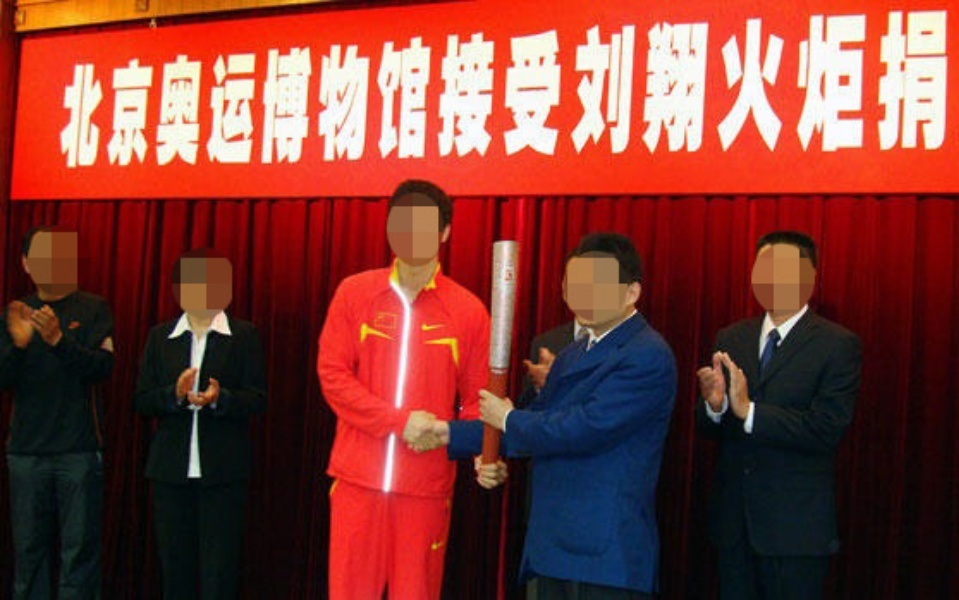text: (65, 7, 80, 176), (81, 7, 96, 176), (97, 7, 112, 176), (113, 7, 128, 176), (129, 7, 144, 176), (145, 7, 160, 176), (161, 7, 176, 176), (177, 7, 192, 176), (193, 7, 208, 176), (209, 7, 224, 176), (225, 7, 240, 176), (241, 7, 256, 176), (257, 7, 272, 176), (273, 7, 288, 176), (289, 7, 304, 176), (305, 7, 320, 176), (321, 7, 336, 176), (337, 7, 352, 176), (353, 7, 368, 176), (369, 7, 384, 176), (385, 7, 400, 176), (401, 7, 416, 176), (417, 7, 432, 176), (433, 7, 448, 176), (449, 7, 464, 176), (465, 7, 480, 176), (481, 7, 496, 176), (497, 7, 512, 176), (513, 7, 528, 176), (529, 7, 544, 176), (545, 7, 560, 176), (561, 7, 576, 176), (577, 7, 592, 176), (593, 7, 608, 176), (609, 7, 624, 176), (625, 7, 640, 176), (641, 7, 656, 176), (657, 7, 672, 176), (673, 7, 688, 176), (689, 7, 704, 176), (705, 7, 720, 176), (721, 7, 736, 176), (737, 7, 752, 176), (753, 7, 768, 176), (769, 7, 784, 176), (785, 7, 800, 176), (801, 7, 816, 176), (817, 7, 832, 176), (833, 7, 848, 176), (849, 7, 864, 176), (865, 7, 880, 176), (881, 7, 896, 176), (897, 7, 912, 176), (913, 7, 928, 176), (929, 7, 944, 176), (945, 7, 951, 176), (59, 7, 64, 176)
